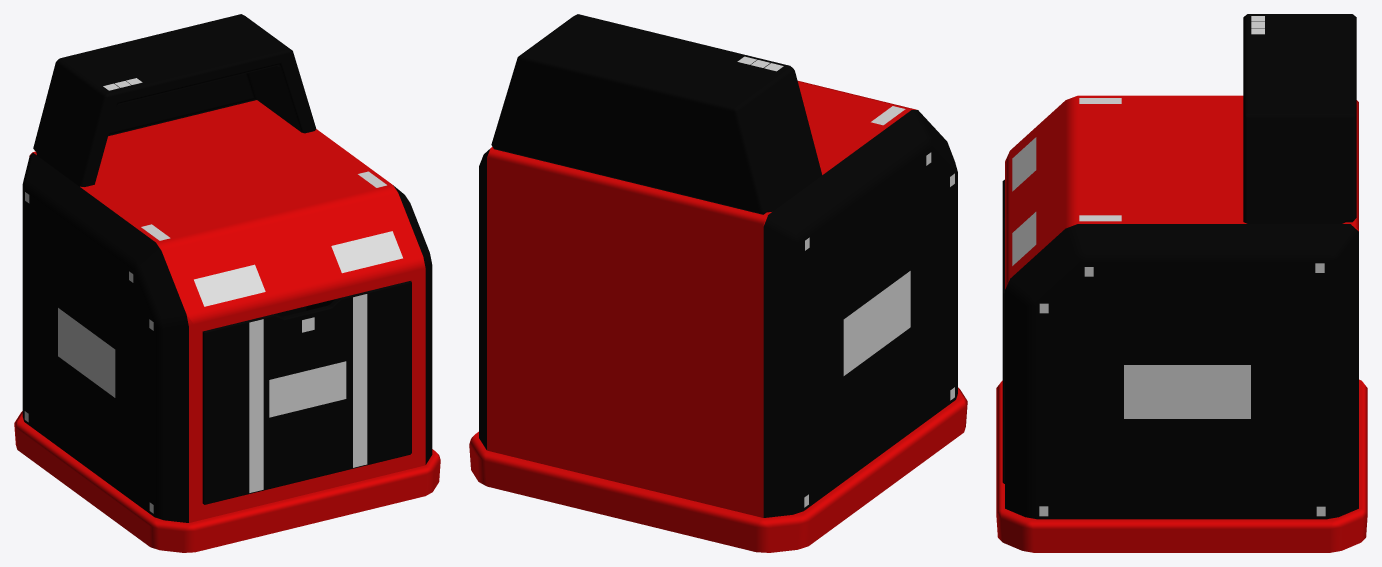
Rendered from table_bed.glb.
The picture shows the model from 3 angles, left to right: view 1: azimuth 30°, elevation 25°; view 2: azimuth 150°, elevation 25°; view 3: azimuth 270°, elevation 25°; orthographic projection. The views are drawn at different scales.
Visible parts, largest first — view 1: bed_table_core, bed_table_drawer, bed_table_lamp, bed_table_drawer_decal, bed_table_decal; view 2: bed_table_core, bed_table_lamp, bed_table_decal; view 3: bed_table_core, bed_table_lamp, bed_table_decal, bed_table_drawer.
Boxes of the visible parts, bbox=[...] form: bed_table_core: bbox=[14, 100, 440, 552]; bed_table_drawer: bbox=[202, 281, 411, 504]; bed_table_lamp: bbox=[33, 14, 316, 186]; bed_table_drawer_decal: bbox=[249, 294, 367, 492]; bed_table_decal: bbox=[24, 78, 402, 513]; bed_table_core: bbox=[469, 81, 967, 552]; bed_table_lamp: bbox=[491, 14, 821, 214]; bed_table_decal: bbox=[737, 56, 954, 507]; bed_table_core: bbox=[996, 95, 1367, 552]; bed_table_lamp: bbox=[1243, 14, 1356, 223]; bed_table_decal: bbox=[1012, 16, 1325, 516]; bed_table_drawer: bbox=[1002, 179, 1004, 483].
Bounding box in the file's own units: 0.5248 × 0.6421 × 0.5248.
